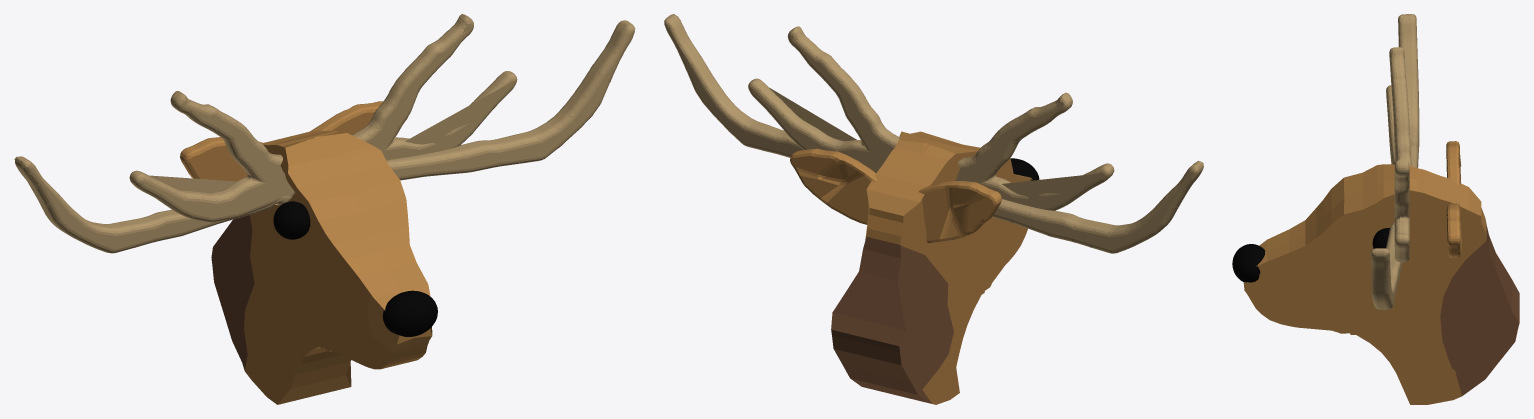
File: deer.fbx
3 views of the same model, side by side, from view 1: azimuth 30°, elevation 25°; view 2: azimuth 150°, elevation 25°; view 3: azimuth 270°, elevation 25° (orthographic). The views are drawn at different scales.
Visible parts, largest first — view 1: Plane.005; view 2: Plane.005; view 3: Plane.005.
Boxes of the visible parts, x1,y1,x2,y2 form: Plane.005: (14, 14, 635, 404); Plane.005: (664, 14, 1203, 404); Plane.005: (1232, 14, 1519, 404).
Bounding box in the file's own units: 200 × 111 × 100.
4 materials, 1 textured.
